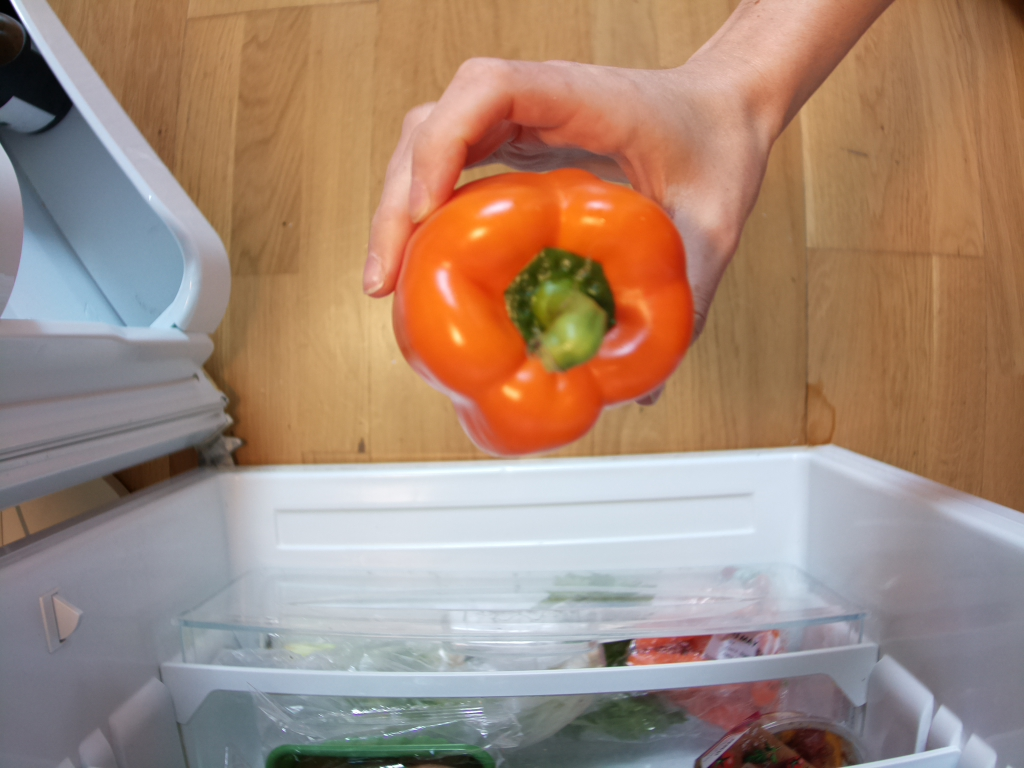pepper: (389, 169, 692, 456)
